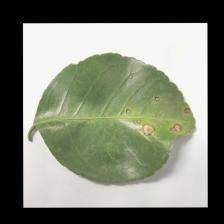canker: (117, 77, 202, 146)
